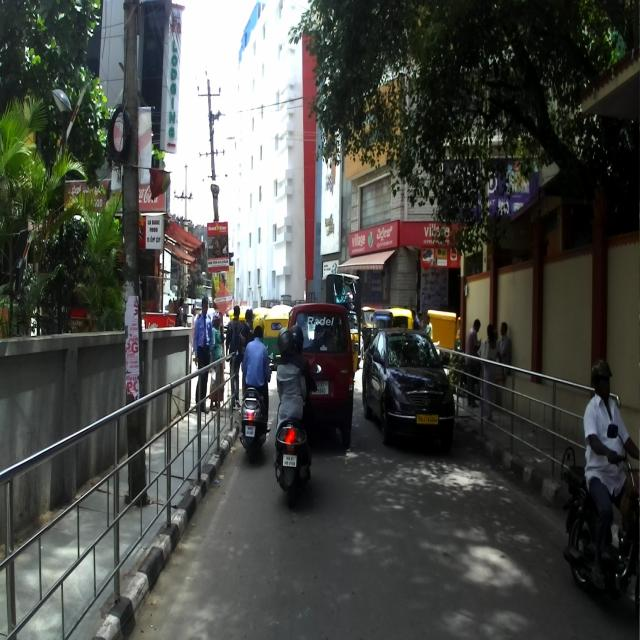Car_Maruti-Suzuki: (288, 301, 354, 442)
Car_TATA: (363, 329, 457, 447)
motorcycle: (559, 420, 640, 610)
scooter: (276, 361, 320, 502), (240, 350, 274, 459)
